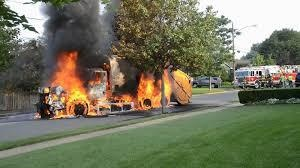fire: (37, 50, 127, 118), (131, 68, 175, 110)
